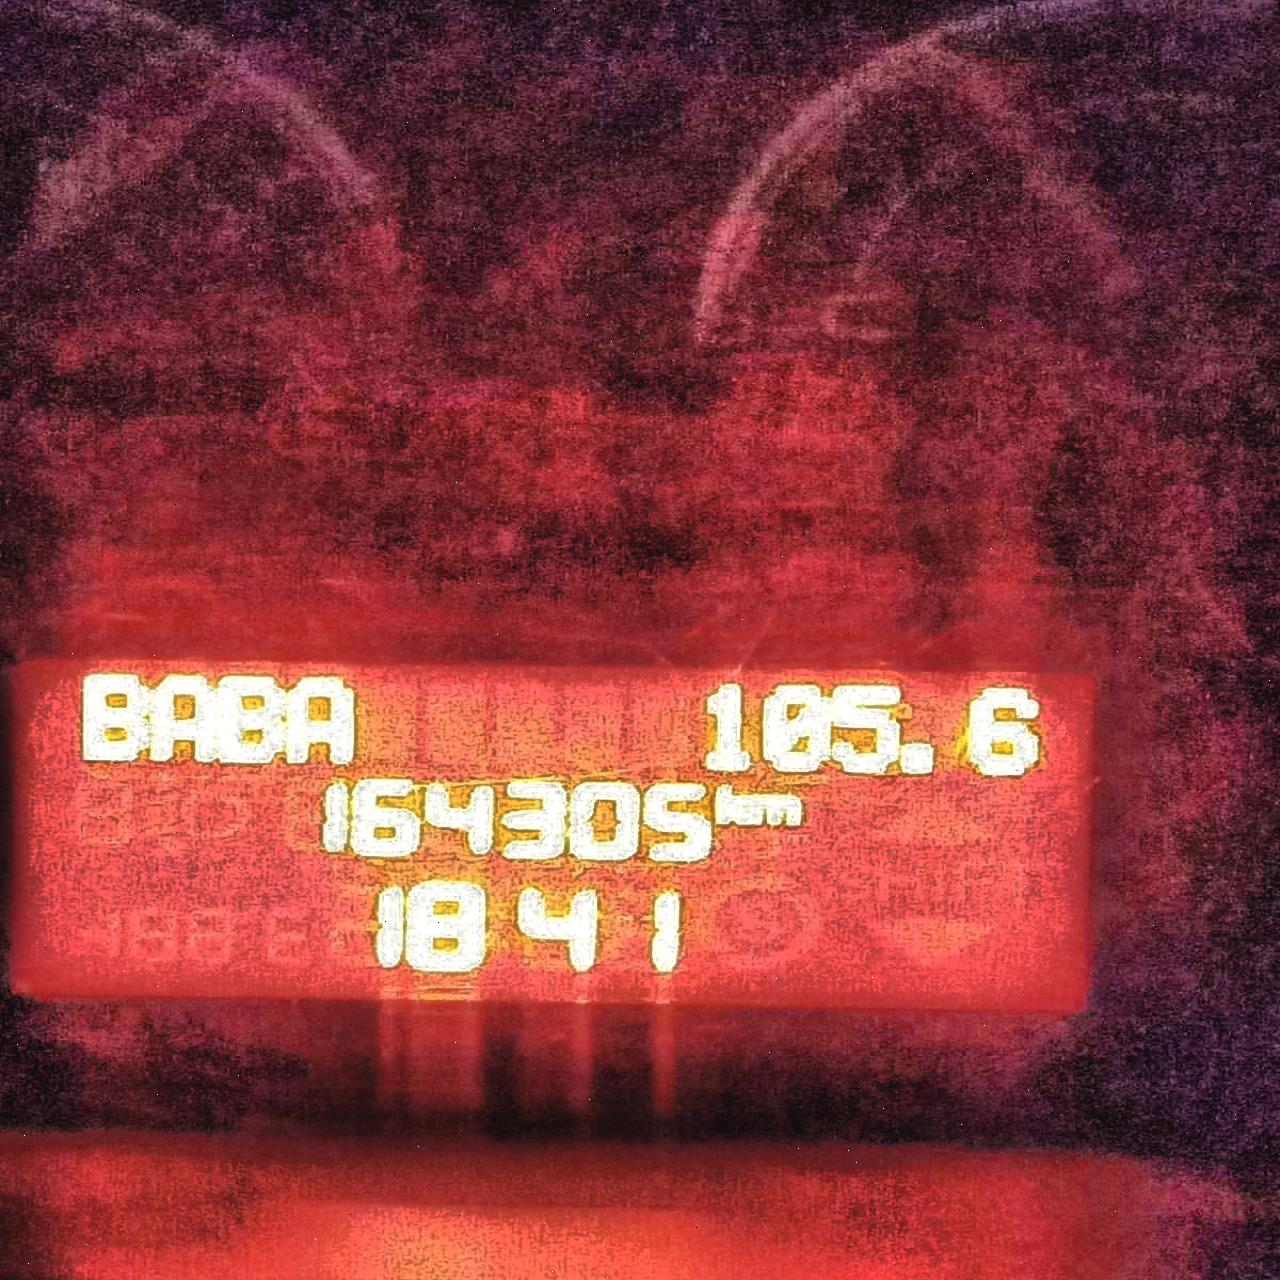-: (897, 735, 944, 782)
0: (758, 678, 828, 781), (570, 774, 634, 865)
1: (635, 880, 704, 982), (693, 678, 756, 779), (368, 878, 401, 982), (311, 778, 348, 865)
3: (504, 769, 571, 865)
4: (512, 878, 613, 976), (425, 775, 501, 853)
5: (830, 679, 903, 788), (639, 778, 713, 863)
6: (958, 675, 1056, 781), (350, 769, 420, 863)
8: (404, 873, 489, 979)
X: (287, 672, 359, 767), (79, 665, 144, 765), (215, 670, 282, 768), (150, 672, 212, 769), (756, 787, 806, 828), (714, 781, 756, 825)
odometer: (12, 641, 1122, 1023)
